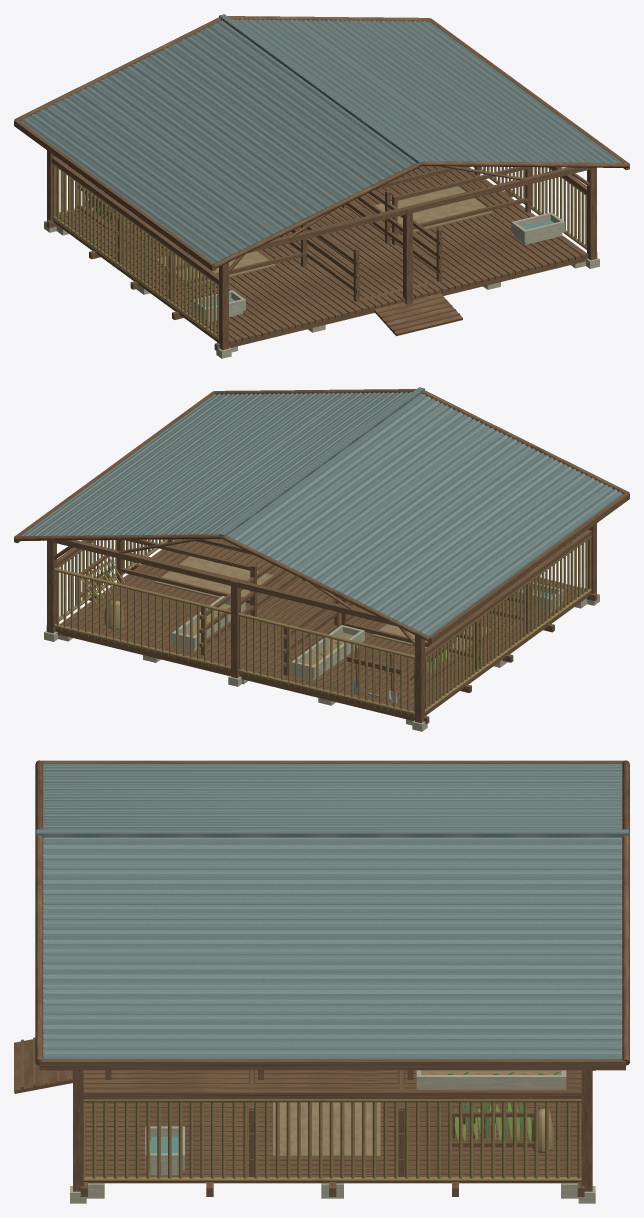
File: goat-shelter.glb
3 views of the same model, one above another, from view 1: azimuth 30°, elevation 25°; view 2: azimuth 150°, elevation 25°; view 3: azimuth 270°, elevation 25° (orthographic). The views are drawn at different scales.
Visible parts, largest first — view 1: roof_corrugated_aged_zinc_roof, floor_warm_weathered_hardwood, walls_warm_weathered_Indonesian_bamboo, roof_warm_weathered_hardwood, frame_warm_weathered_hardwood, stalls_warm_weathered_hardwood, bedding_dry_rice_straw_bedding, entry_ramp_warm_weathered_hardwood, walls_warm_weathered_hardwood, clean_water_trough_1_hand_trowelled_lime_concrete, clean_water_trough_-1_hand_trowelled_lime_concrete; view 2: roof_corrugated_aged_zinc_roof, walls_warm_weathered_Indonesian_bamboo, floor_warm_weathered_hardwood, roof_warm_weathered_hardwood, frame_warm_weathered_hardwood, stalls_warm_weathered_hardwood, bedding_dry_rice_straw_bedding, walls_warm_weathered_hardwood, green_fodder_trough_-1_hand_trowelled_lime_concrete, green_fodder_trough_1_hand_trowelled_lime_concrete, tool_rack_warm_weathered_hardwood, wall_hay_rack_1_warm_weathered_Indonesian_bamboo; view 3: roof_corrugated_aged_zinc_roof, floor_warm_weathered_hardwood, walls_warm_weathered_Indonesian_bamboo, roof_warm_weathered_hardwood, walls_warm_weathered_hardwood, bedding_dry_rice_straw_bedding, frame_warm_weathered_hardwood, green_fodder_trough_1_hand_trowelled_lime_concrete, entry_ramp_warm_weathered_hardwood, stalls_warm_weathered_hardwood, clean_water_trough_1_hand_trowelled_lime_concrete, wall_hay_rack_1_warm_weathered_hardwood (+3 smaller).
Boxes of the visible parts, left/top/right/bottom form: roof_corrugated_aged_zinc_roof: left=20, top=14, right=622, bottom=263; floor_warm_weathered_hardwood: left=46, top=166, right=597, bottom=351; walls_warm_weathered_Indonesian_bamboo: left=52, top=163, right=586, bottom=339; roof_warm_weathered_hardwood: left=14, top=16, right=629, bottom=270; frame_warm_weathered_hardwood: left=47, top=150, right=596, bottom=350; stalls_warm_weathered_hardwood: left=117, top=166, right=531, bottom=301; bedding_dry_rice_straw_bedding: left=155, top=186, right=492, bottom=286; entry_ramp_warm_weathered_hardwood: left=364, top=282, right=462, bottom=336; walls_warm_weathered_hardwood: left=51, top=156, right=586, bottom=284; clean_water_trough_1_hand_trowelled_lime_concrete: left=511, top=212, right=564, bottom=244; clean_water_trough_-1_hand_trowelled_lime_concrete: left=194, top=290, right=245, bottom=322; roof_corrugated_aged_zinc_roof: left=21, top=387, right=623, bottom=636; walls_warm_weathered_Indonesian_bamboo: left=54, top=536, right=591, bottom=714; floor_warm_weathered_hardwood: left=46, top=539, right=597, bottom=724; roof_warm_weathered_hardwood: left=14, top=389, right=629, bottom=643; frame_warm_weathered_hardwood: left=47, top=523, right=596, bottom=723; stalls_warm_weathered_hardwood: left=116, top=539, right=530, bottom=675; bedding_dry_rice_straw_bedding: left=155, top=556, right=490, bottom=656; walls_warm_weathered_hardwood: left=57, top=529, right=592, bottom=657; green_fodder_trough_-1_hand_trowelled_lime_concrete: left=291, top=625, right=364, bottom=680; green_fodder_trough_1_hand_trowelled_lime_concrete: left=172, top=596, right=245, bottom=651; tool_rack_warm_weathered_hardwood: left=346, top=645, right=400, bottom=701; wall_hay_rack_1_warm_weathered_Indonesian_bamboo: left=80, top=557, right=124, bottom=603; roof_corrugated_aged_zinc_roof: left=36, top=764, right=628, bottom=1059; floor_warm_weathered_hardwood: left=80, top=1070, right=584, bottom=1196; walls_warm_weathered_Indonesian_bamboo: left=83, top=1099, right=581, bottom=1181; roof_warm_weathered_hardwood: left=35, top=760, right=629, bottom=1070; walls_warm_weathered_hardwood: left=83, top=1089, right=581, bottom=1099; bedding_dry_rice_straw_bedding: left=273, top=1102, right=380, bottom=1157; frame_warm_weathered_hardwood: left=73, top=1070, right=592, bottom=1191; green_fodder_trough_1_hand_trowelled_lime_concrete: left=416, top=1070, right=566, bottom=1089; entry_ramp_warm_weathered_hardwood: left=14, top=1037, right=72, bottom=1093; stalls_warm_weathered_hardwood: left=105, top=1070, right=413, bottom=1176; clean_water_trough_1_hand_trowelled_lime_concrete: left=145, top=1126, right=184, bottom=1175; wall_hay_rack_1_warm_weathered_hardwood: left=452, top=1111, right=534, bottom=1147.
Size of the model in its own units: 11.91 by 4.39 by 10.29.
Materials: 11 (5 with a texture image).
